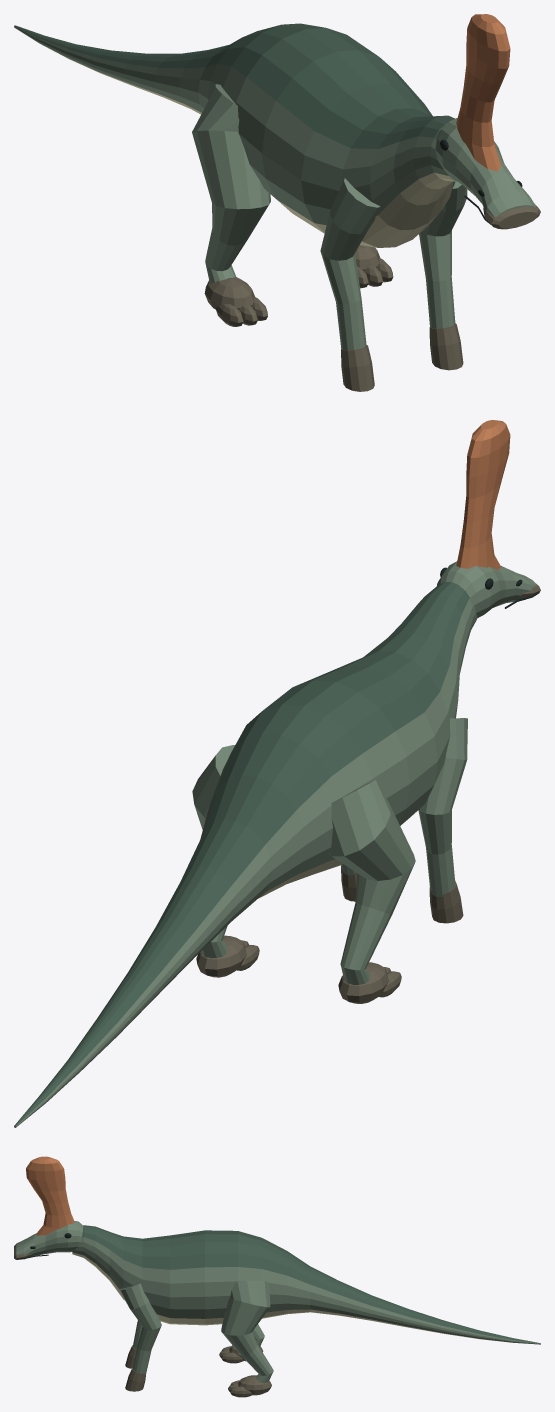
The picture shows the model from 3 angles, top to bottom: view 1: azimuth 30°, elevation 25°; view 2: azimuth 150°, elevation 25°; view 3: azimuth 270°, elevation 25°; orthographic projection. The views are drawn at different scales.
Visible parts, largest first — view 1: 01_trunk_neck_tail, 05_forelimbs, 06_hindlimbs, 07_functional_feet, 04_expanded_cranial_crest, 02_head_cheeks, 03_broad_beak; view 2: 01_trunk_neck_tail, 06_hindlimbs, 04_expanded_cranial_crest, 05_forelimbs, 07_functional_feet, 02_head_cheeks; view 3: 01_trunk_neck_tail, 06_hindlimbs, 04_expanded_cranial_crest, 05_forelimbs, 07_functional_feet, 02_head_cheeks.
Boxes of the visible parts, x1,y1,x2,y2 form: 01_trunk_neck_tail: (14, 23, 457, 247); 05_forelimbs: (320, 178, 467, 350); 06_hindlimbs: (192, 84, 270, 282); 07_functional_feet: (204, 245, 463, 391); 04_expanded_cranial_crest: (456, 14, 510, 171); 02_head_cheeks: (435, 118, 536, 217); 03_broad_beak: (483, 204, 540, 229); 01_trunk_neck_tail: (14, 582, 477, 1127); 06_hindlimbs: (192, 745, 415, 984); 04_expanded_cranial_crest: (456, 420, 510, 569); 05_forelimbs: (341, 718, 467, 896); 07_functional_feet: (196, 866, 463, 1003); 02_head_cheeks: (437, 561, 536, 618); 01_trunk_neck_tail: (72, 1225, 540, 1344); 06_hindlimbs: (221, 1280, 273, 1383); 04_expanded_cranial_crest: (26, 1156, 74, 1235); 05_forelimbs: (119, 1283, 161, 1374); 07_functional_feet: (125, 1345, 271, 1397); 02_head_cheeks: (16, 1221, 83, 1259).
Size of the model in its own units: 2.7 by 5.5 by 12.
